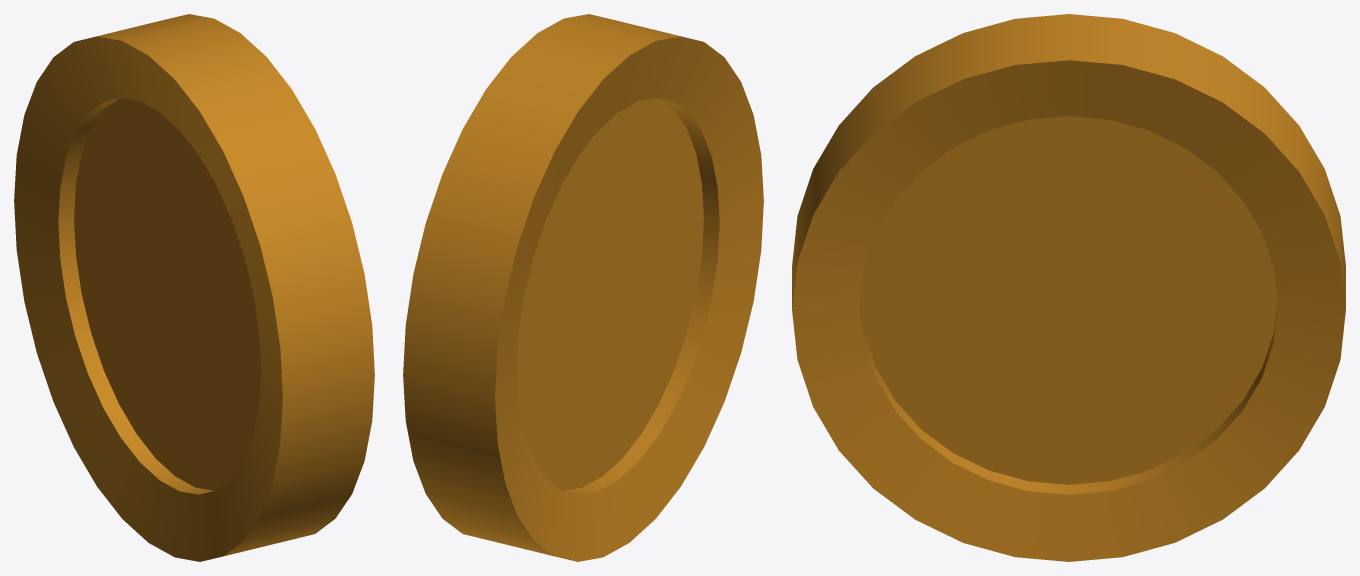
The picture shows the model from 3 angles, left to right: view 1: azimuth 30°, elevation 25°; view 2: azimuth 150°, elevation 25°; view 3: azimuth 270°, elevation 25°; orthographic projection. The views are drawn at different scales.
Visible parts, largest first — view 1: Cylinder; view 2: Cylinder; view 3: Cylinder.
Boxes of the visible parts, x1=… form: Cylinder: x1=14, y1=14, x2=374, y2=561; Cylinder: x1=403, y1=14, x2=763, y2=561; Cylinder: x1=792, y1=14, x2=1345, y2=561.
Bounding box in the file's own units: 0.3949 × 2 × 2.
